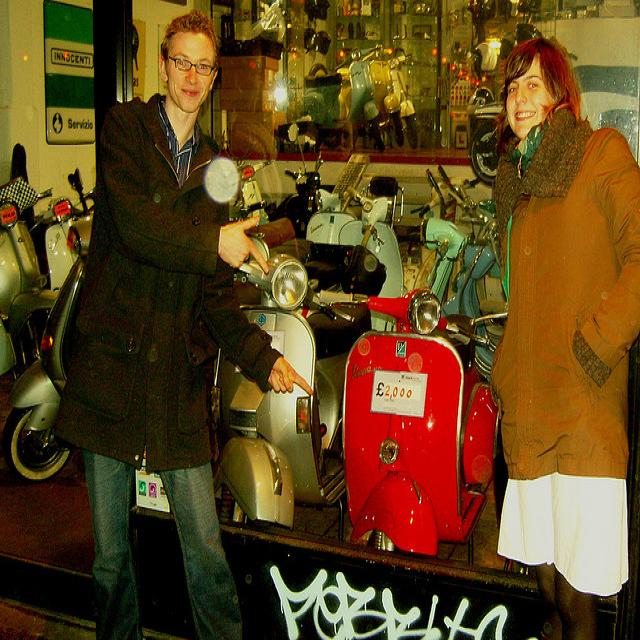motor: (317, 282, 500, 557), (214, 248, 363, 525), (0, 213, 94, 484), (443, 186, 508, 386), (294, 46, 385, 151), (0, 196, 42, 372), (338, 188, 403, 294), (28, 191, 93, 289), (420, 214, 476, 307), (364, 46, 406, 149), (306, 186, 359, 245)
